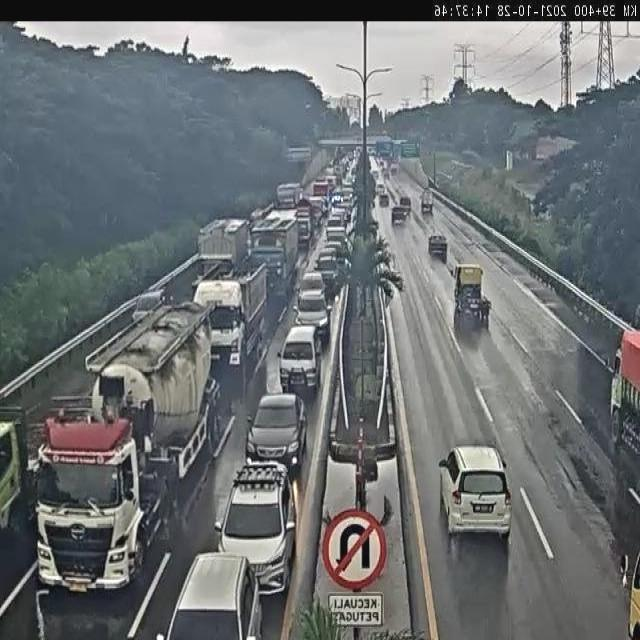Car: (216, 461, 298, 592), (173, 550, 269, 640), (443, 460, 513, 539), (245, 394, 305, 473), (278, 328, 322, 399), (316, 248, 346, 297), (295, 284, 328, 324), (132, 292, 166, 323), (428, 235, 448, 258), (391, 205, 407, 224), (400, 196, 411, 209)
Truck: (30, 313, 223, 586), (192, 267, 270, 384), (0, 386, 35, 548), (608, 334, 640, 458), (248, 212, 300, 288), (196, 218, 250, 278), (455, 263, 495, 322), (273, 176, 301, 206), (421, 192, 433, 214)
